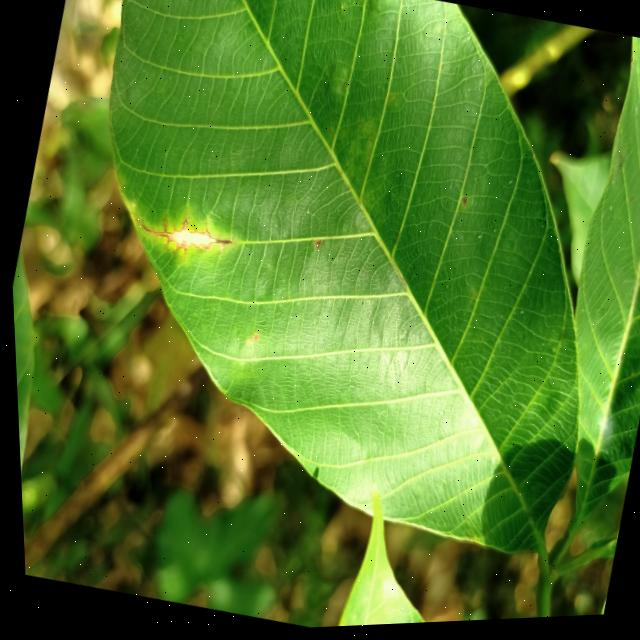Corynespora: (133, 205, 236, 274)
